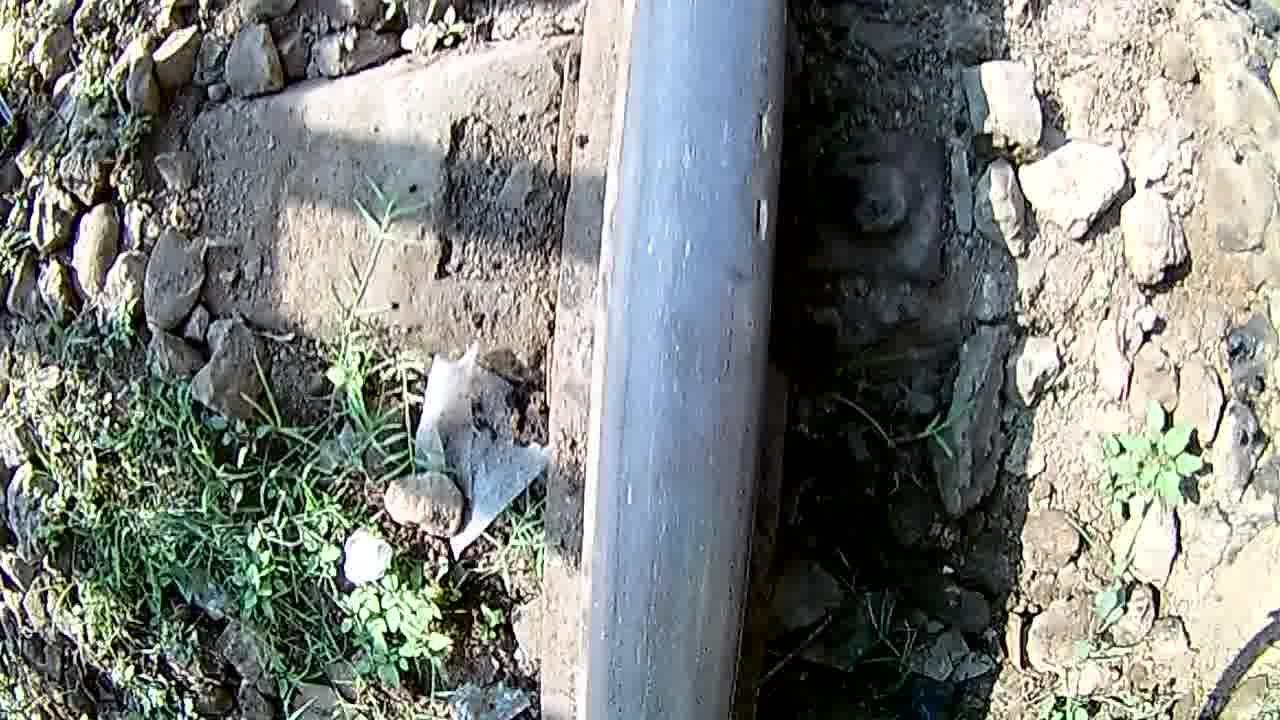crack: (574, 0, 798, 720)
